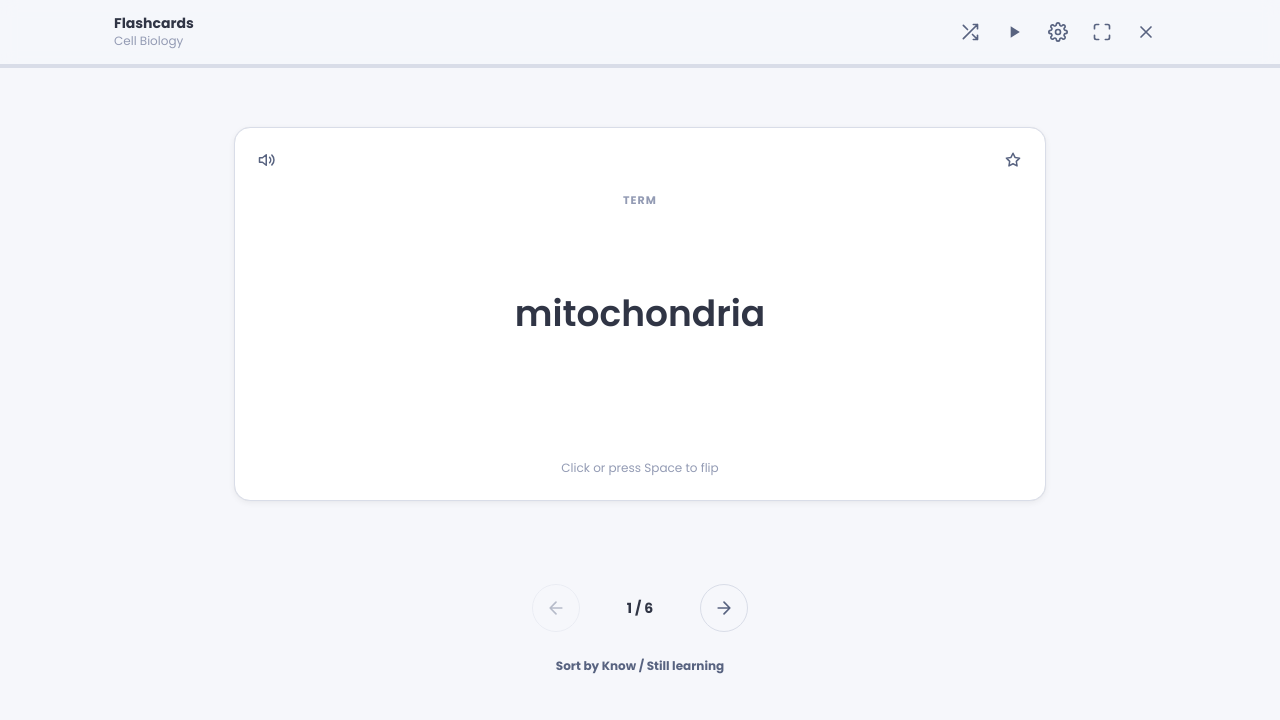
Scenario: Flashcards › reveals the definition when the card is clicked
Expected: the text "powerhouse of the cell" is shown, [434, 289, 846, 339]
Click the button with aria-label "Show definition" at (640, 314), box [234, 127, 1046, 501]
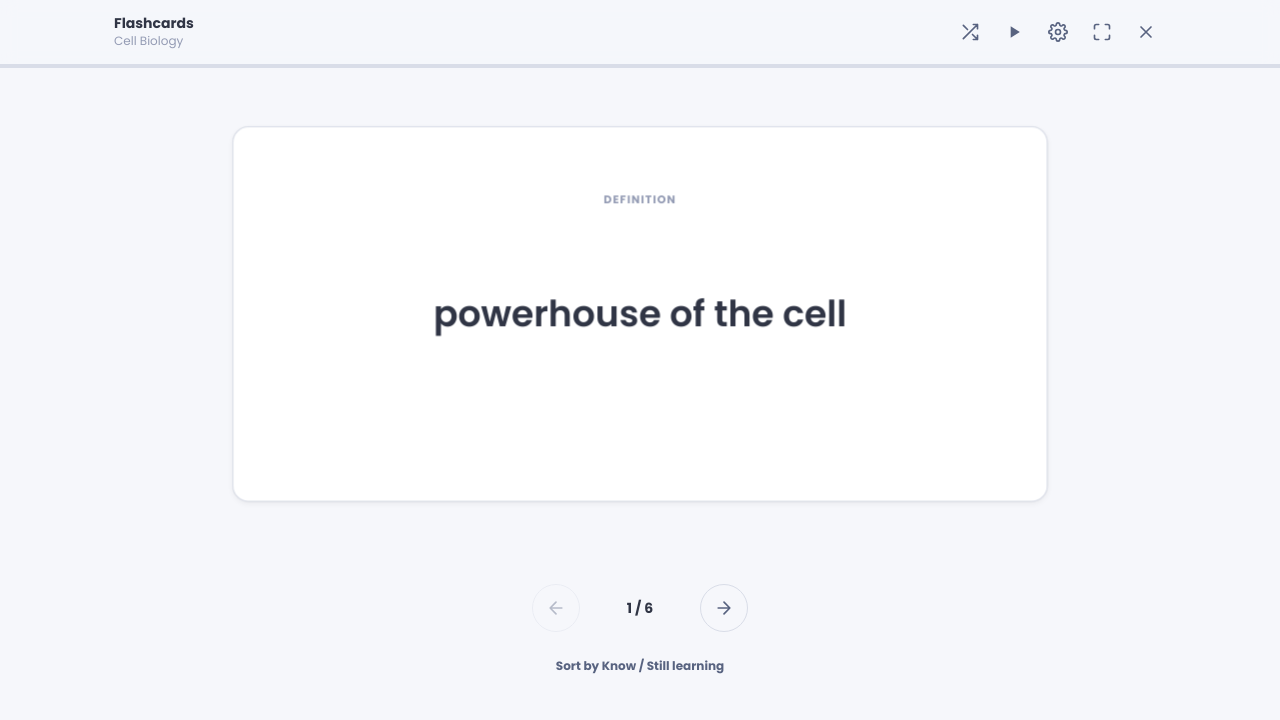
Expected: the button with aria-label "show term" is shown, [232, 126, 1048, 502]
